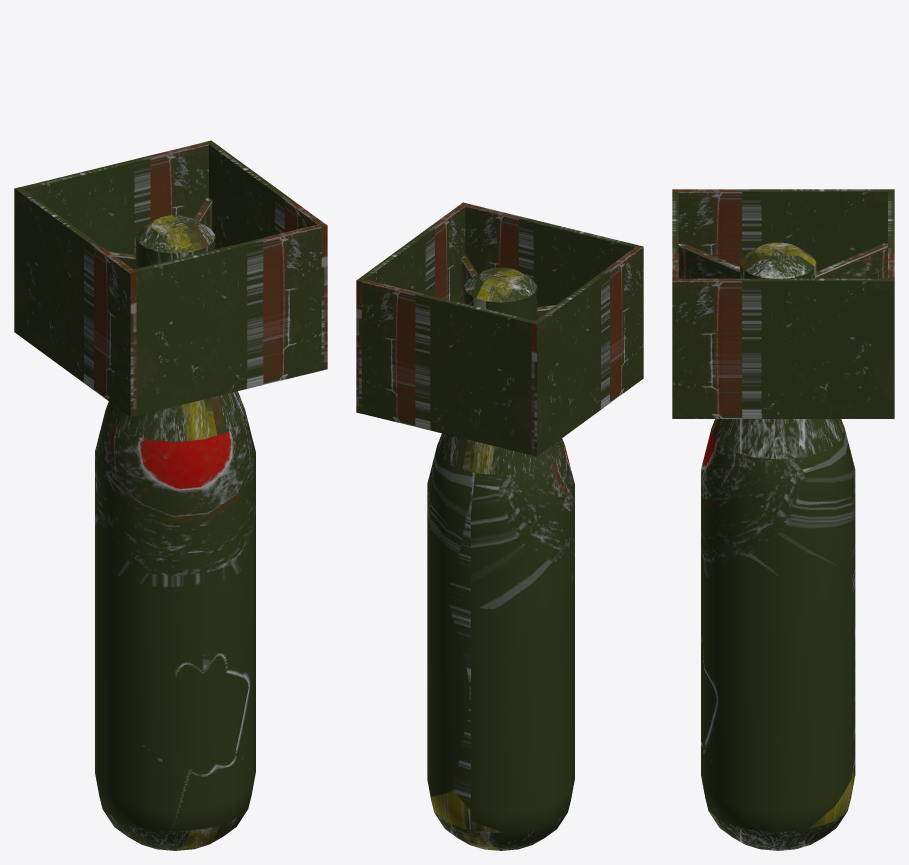
The model's file is boom.obj.
3 views of the same model, side by side, from view 1: azimuth 30°, elevation 25°; view 2: azimuth 150°, elevation 25°; view 3: azimuth 270°, elevation 25° (orthographic). The views are drawn at different scales.
Parts seen in each view (by area): view 1: Object_1.001; view 2: Object_1.001; view 3: Object_1.001.
Part boxes in pixels (x1,y1,x2,y2): Object_1.001: [14, 140, 327, 850]; Object_1.001: [356, 202, 643, 850]; Object_1.001: [672, 189, 894, 850].
Size of the model in its own units: 7.94 by 33.11 by 8.12.
